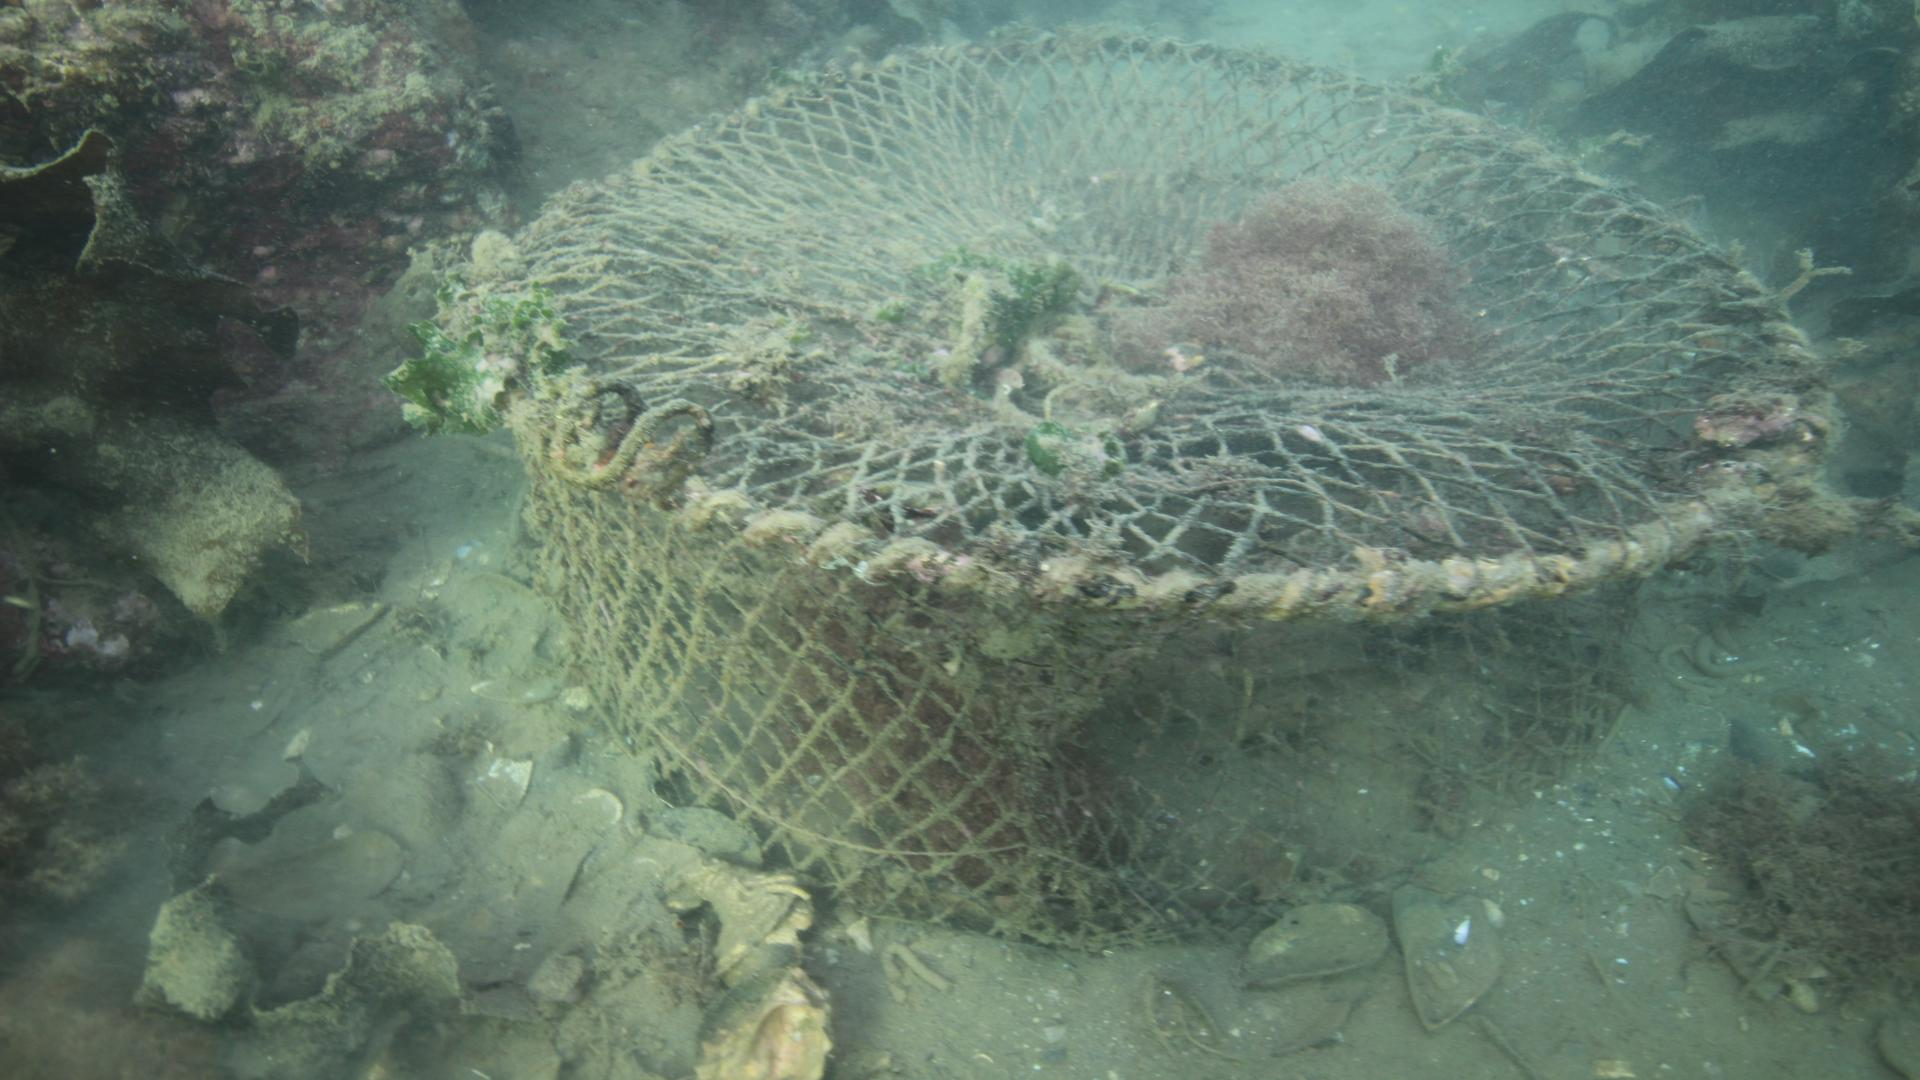circular fish trap: (456, 0, 1836, 953)
